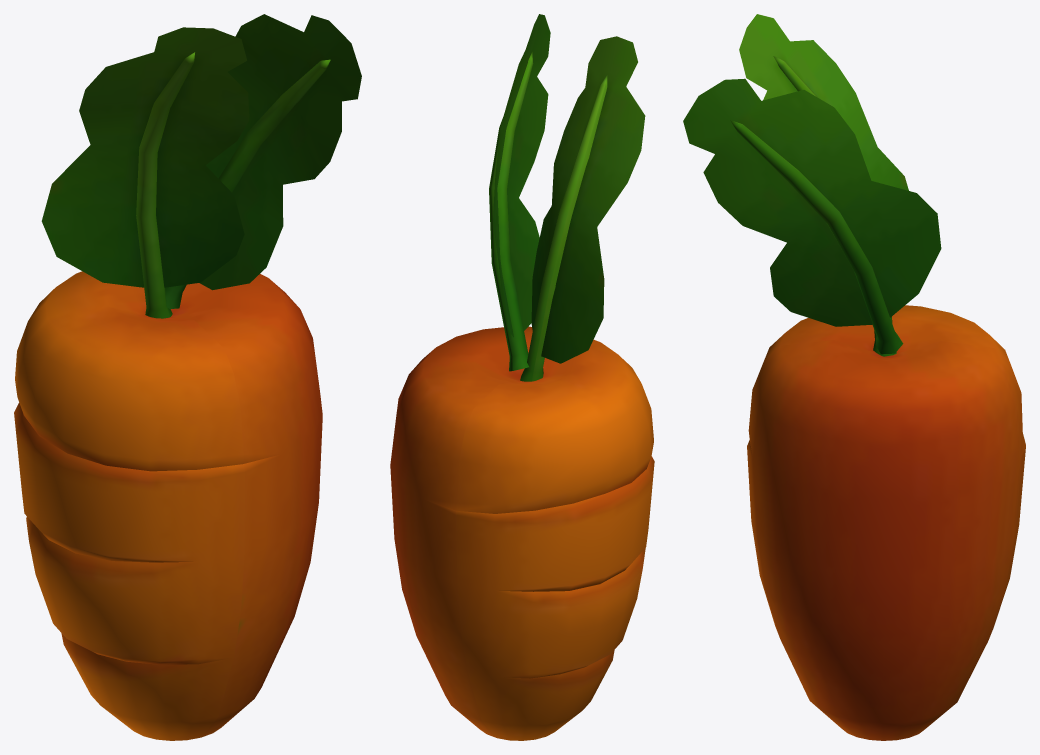
File: Carrot.obj
The picture shows the model from 3 angles, left to right: view 1: azimuth 30°, elevation 25°; view 2: azimuth 150°, elevation 25°; view 3: azimuth 270°, elevation 25°; orthographic projection. The views are drawn at different scales.
Parts seen in each view (by area): view 1: Carrot; view 2: Carrot; view 3: Carrot.
Boxes of the visible parts, x1,y1,x2,y2 form: Carrot: (14, 14, 361, 740); Carrot: (390, 14, 654, 740); Carrot: (683, 14, 1025, 740).
Size of the model in its own units: 0.1179 by 0.3258 by 0.1451.
Materials: 1 (1 with a texture image).
